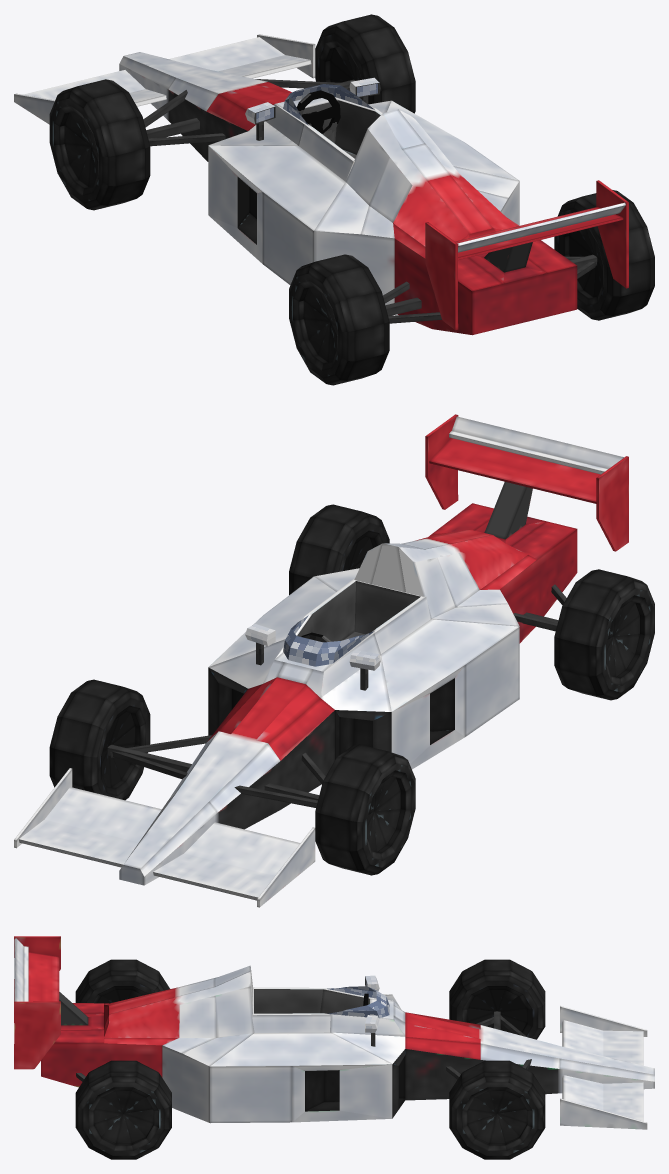
Rendered from Low_Poly_F1_Mp4_6_Ayrton_Senna.glb.
3 renders of one model, top to bottom at view 1: azimuth 30°, elevation 25°; view 2: azimuth 150°, elevation 25°; view 3: azimuth 270°, elevation 25°, orthographic. The views are drawn at different scales.
Visible parts, largest first — view 1: unnamed (×13); view 2: unnamed (×9); view 3: unnamed (×9).
Part boxes in pixels (box(x1,y1,x2,y2)): unnamed (×13): box(14, 14, 654, 385); unnamed (×9): box(14, 414, 654, 907); unnamed (×9): box(14, 936, 654, 1159).
Size of the model in its own units: 1.57 by 0.831 by 3.58.
6 materials, 6 textured.
